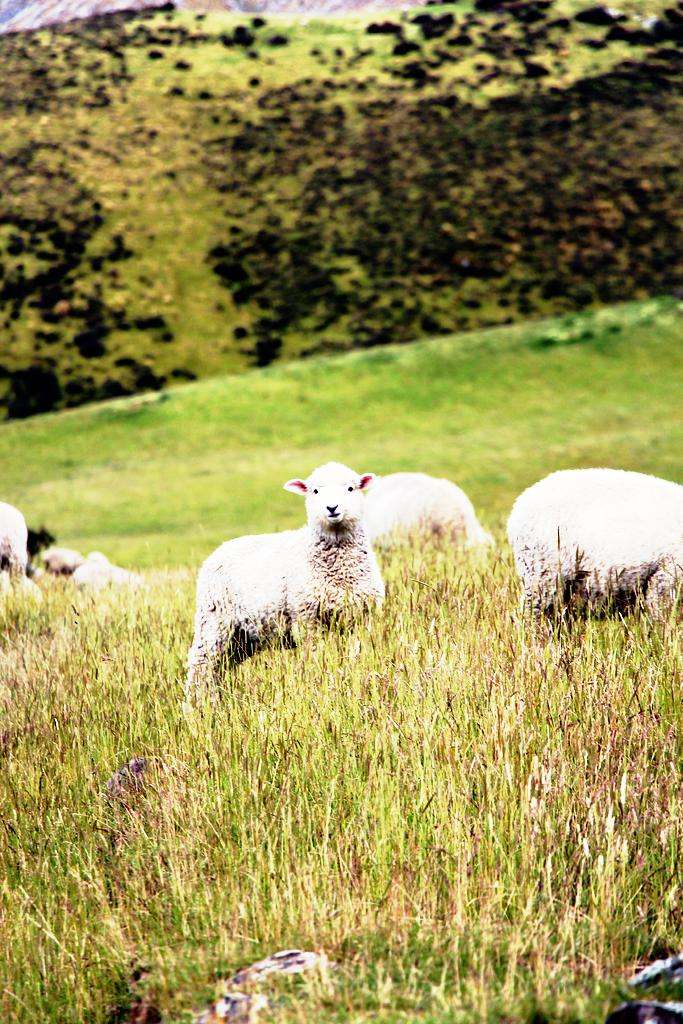Sheep: (184, 460, 379, 730), (506, 471, 682, 616), (362, 464, 497, 577)
